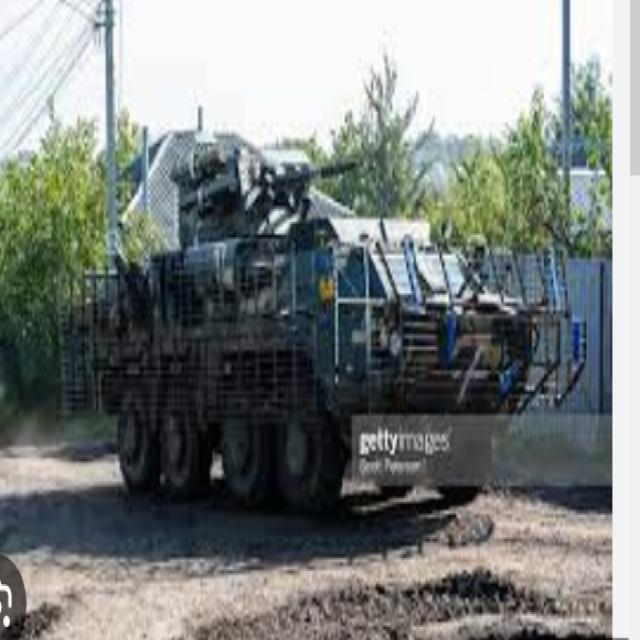MIL_APC: (94, 133, 577, 544)
